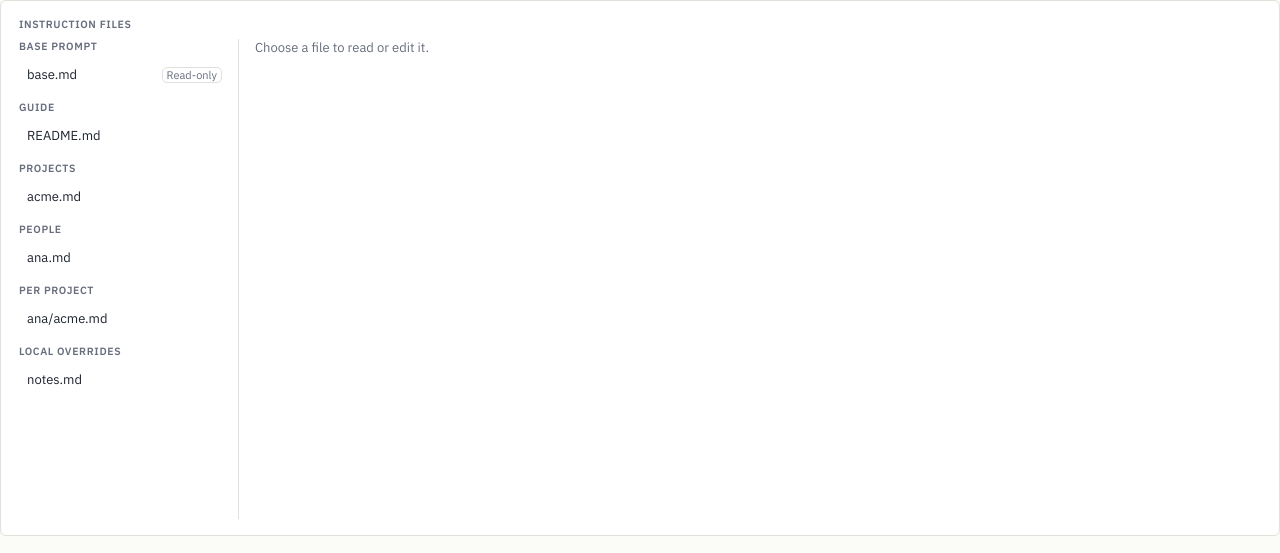
a rejected read is shown verbatim
Click the button "acme.md" at (124, 196), box [19,183,230,210]
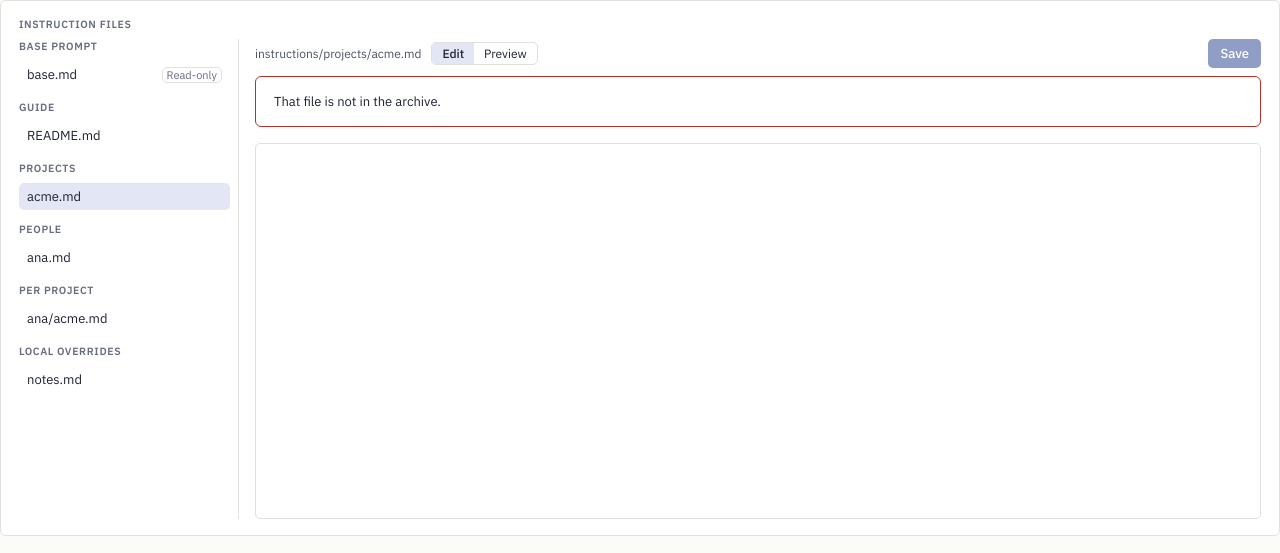
Result: the message reads "That file is not in the archive." at [274,93,441,110]
